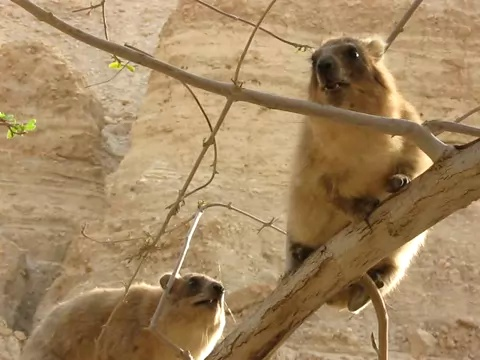Rock Hyrex: (286, 35, 436, 313), (18, 271, 229, 360)
